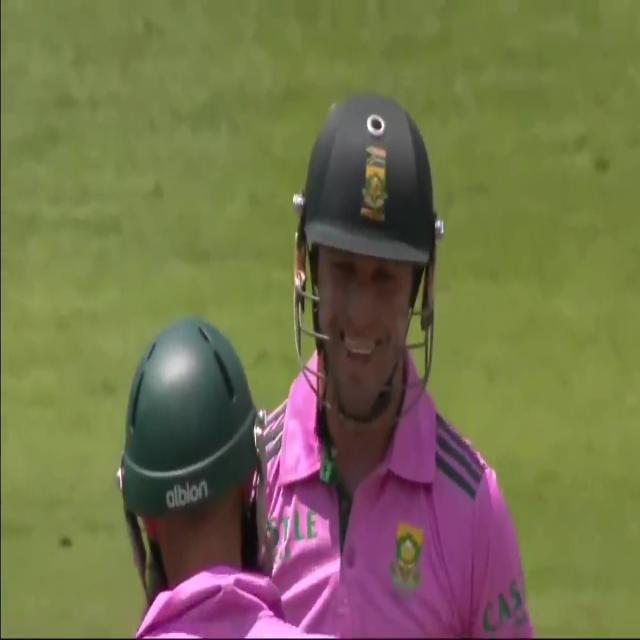Ball: (289, 93, 520, 636)
